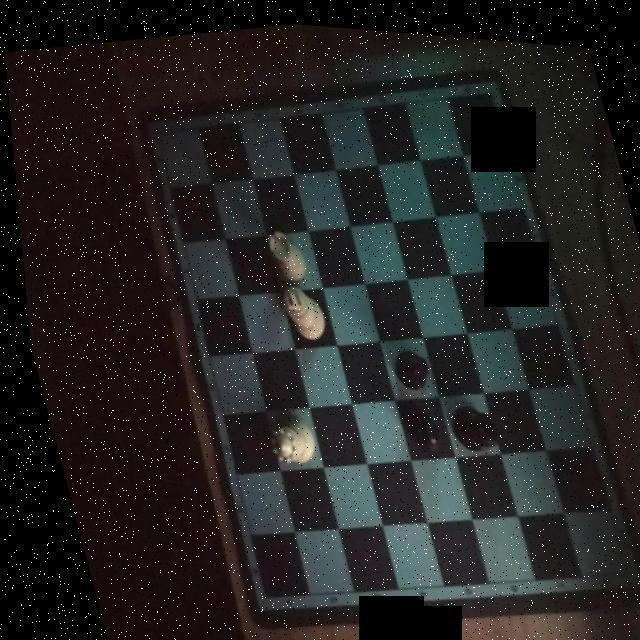chess-table-corners: (476, 67, 502, 98), (609, 550, 634, 578), (243, 580, 268, 608), (146, 116, 166, 140)
